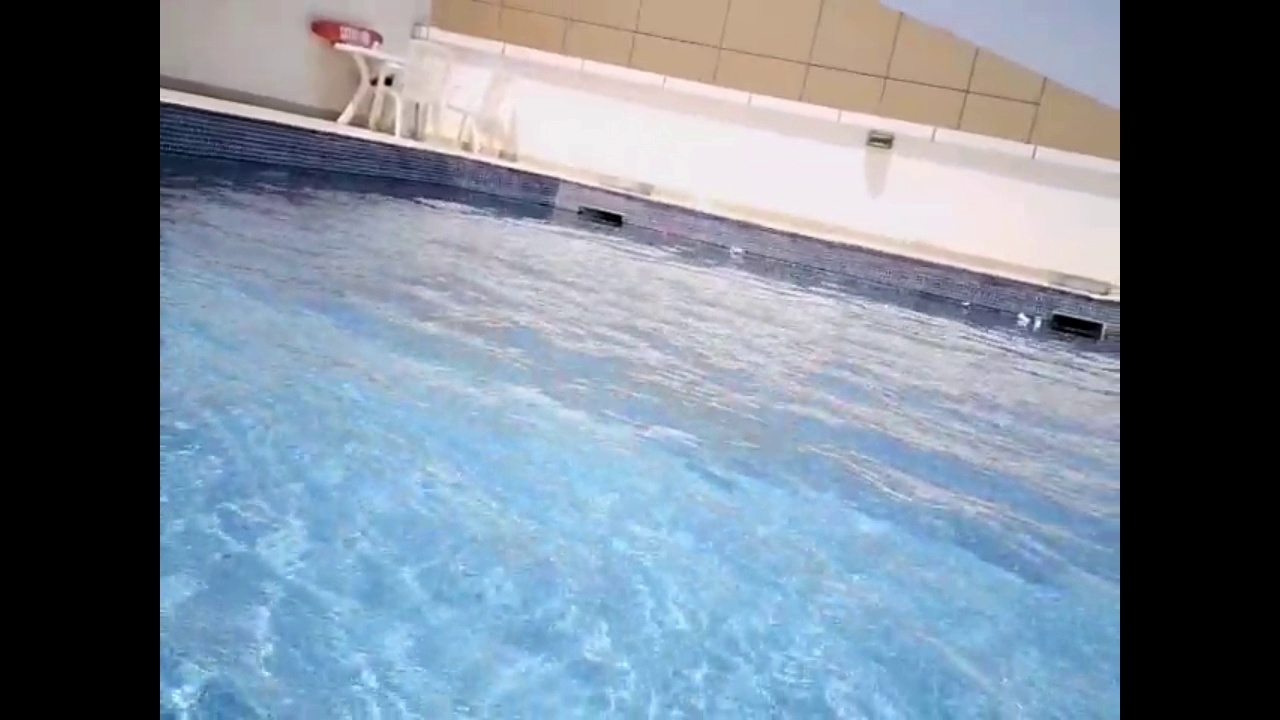debris: (723, 239, 752, 264), (1026, 311, 1048, 332), (1013, 306, 1030, 330), (956, 293, 975, 312)
